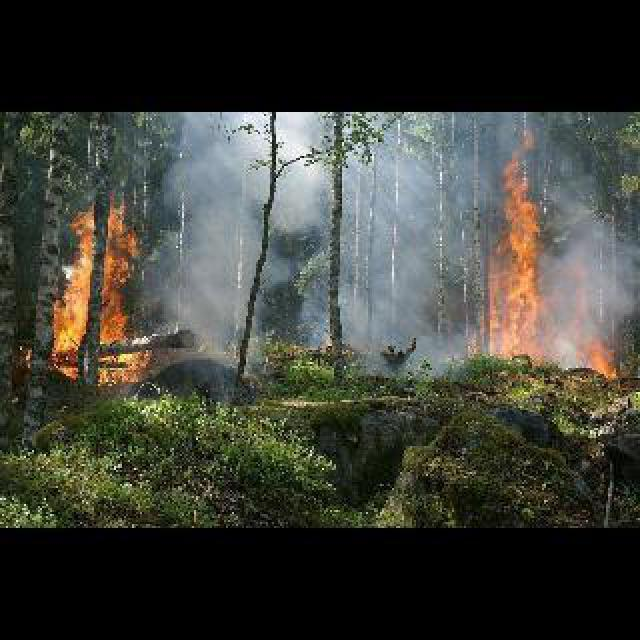Fire: (49, 196, 136, 394), (483, 160, 556, 363), (580, 336, 622, 383)
Smoke: (155, 116, 492, 392), (538, 155, 636, 371)
